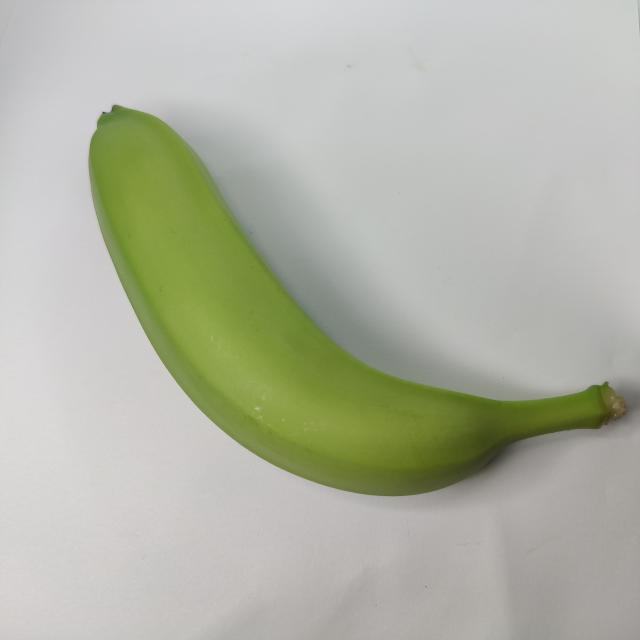raw: (58, 80, 629, 516)
